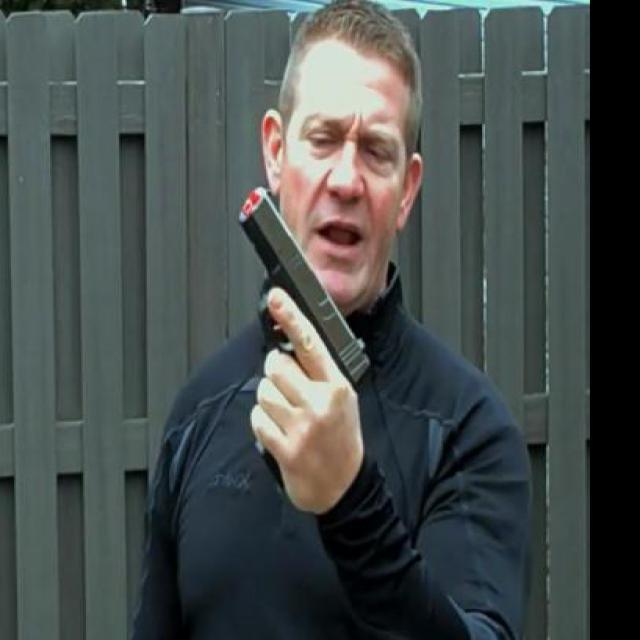Gun: (236, 180, 376, 450)
